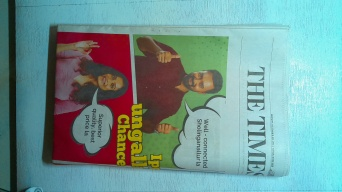p: (49, 17, 292, 185)
